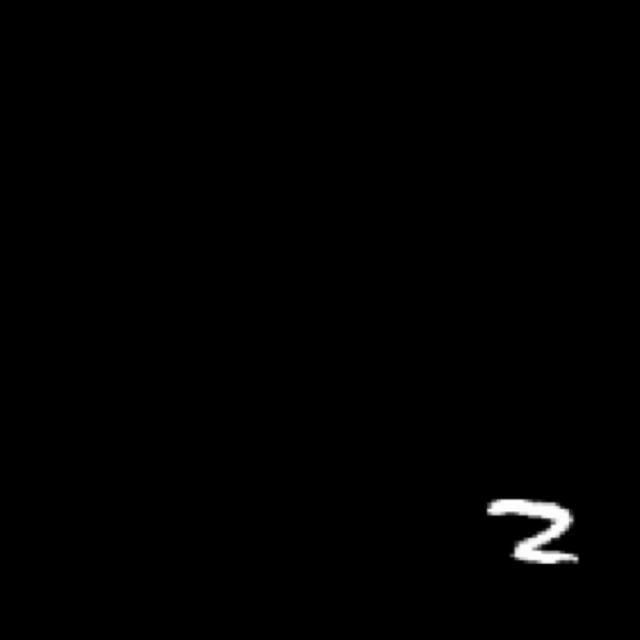two -2-: (474, 485, 600, 582)
